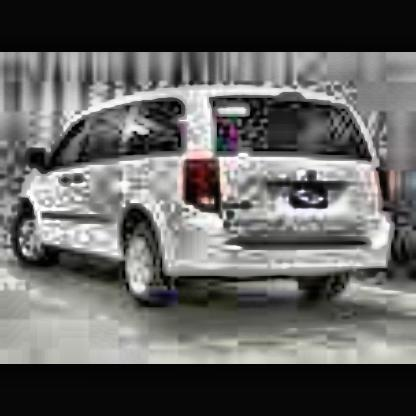Ram C-V Cargo Van Minivan 2012: (5, 86, 406, 320)
